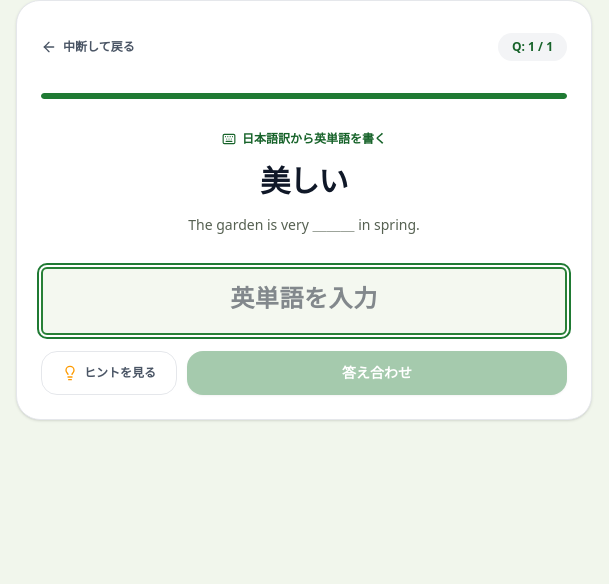
答え合わせ › 間違えたら正しい綴りを見せ、苦手単語に入れる
Type "beatiful" into the field with id "spelling_input". click: (304, 301)
box: [41,267,567,335]
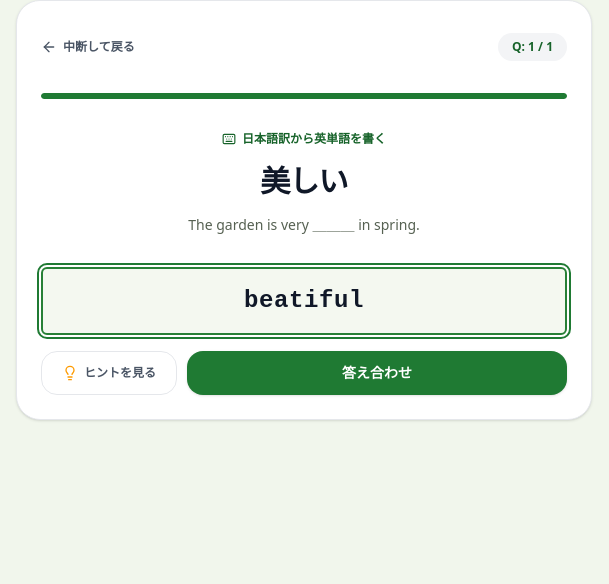
Click the button with id "btn_spelling_submit". click: (377, 373)
box: [187,351,567,395]
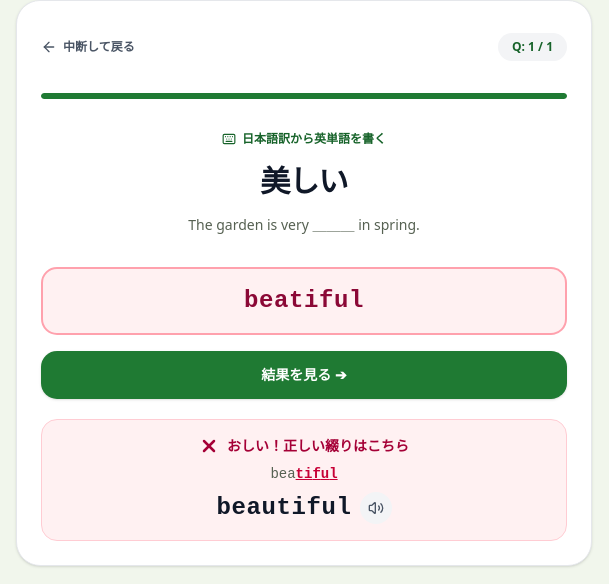
Now the message "おしい！正しい綴りはこちら beatiful beautiful" is shown, box [41,419,567,541]
